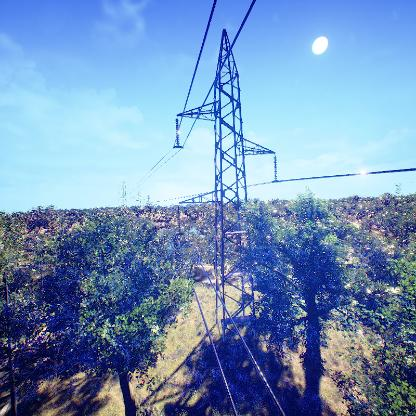tower: (172, 28, 281, 347)
